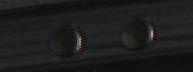joints: (46, 23, 84, 59), (119, 14, 155, 51)
